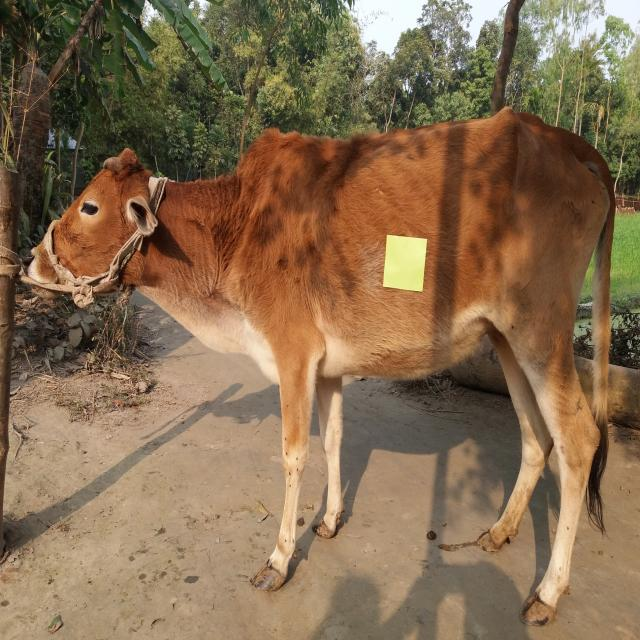badan_sapi: (260, 129, 601, 376)
sapi: (11, 95, 622, 633)
